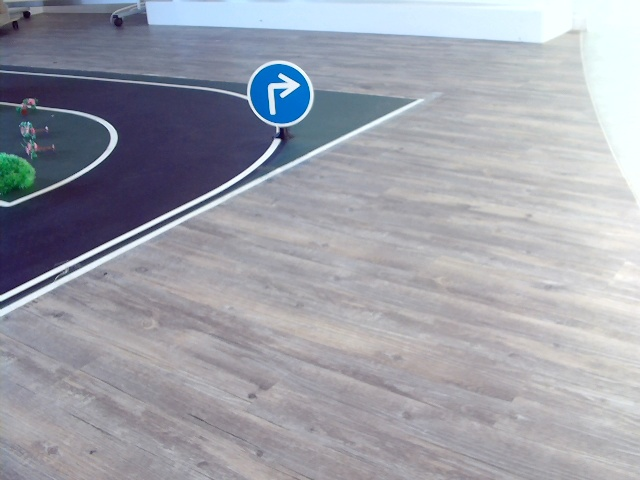turn_right: (260, 70, 300, 114)
